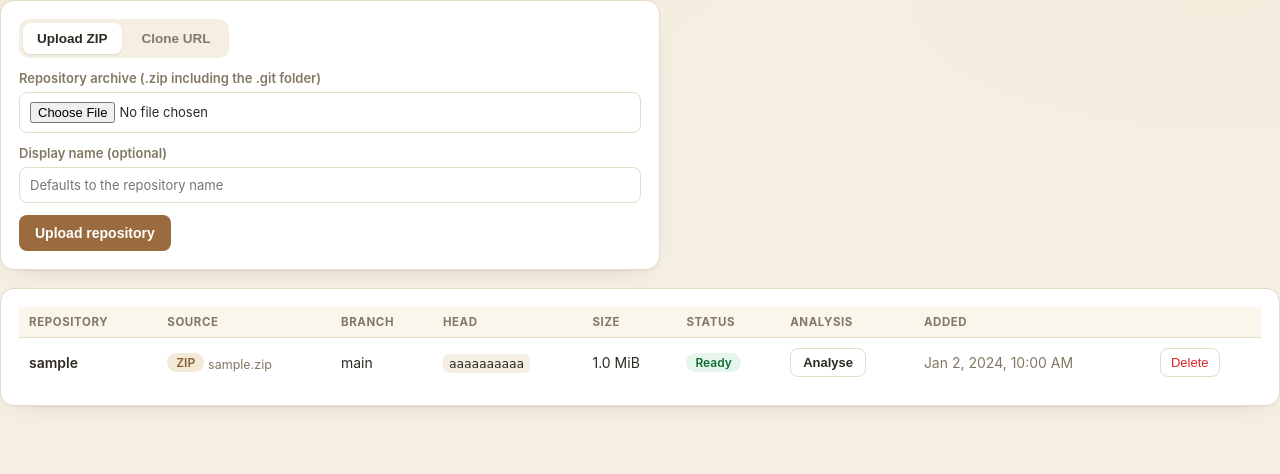
Test: RepositoriesPage › starts a history analysis for idle repositories
Click the button "Analyse" at (828, 362), box [790,348,866,377]
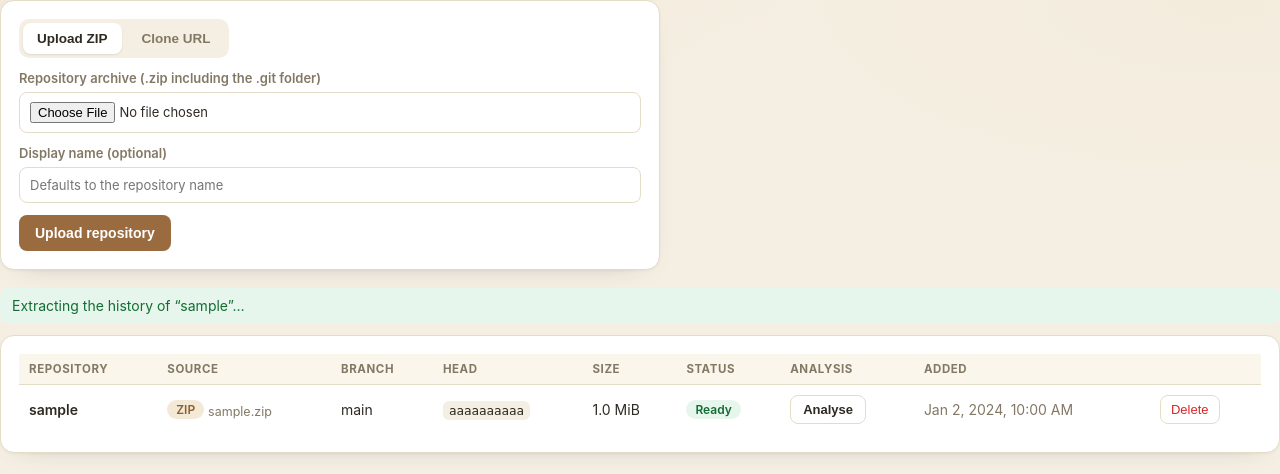
Expected: the text "Extracting the history of “sample”…" is shown, [0,288,1279,323]
